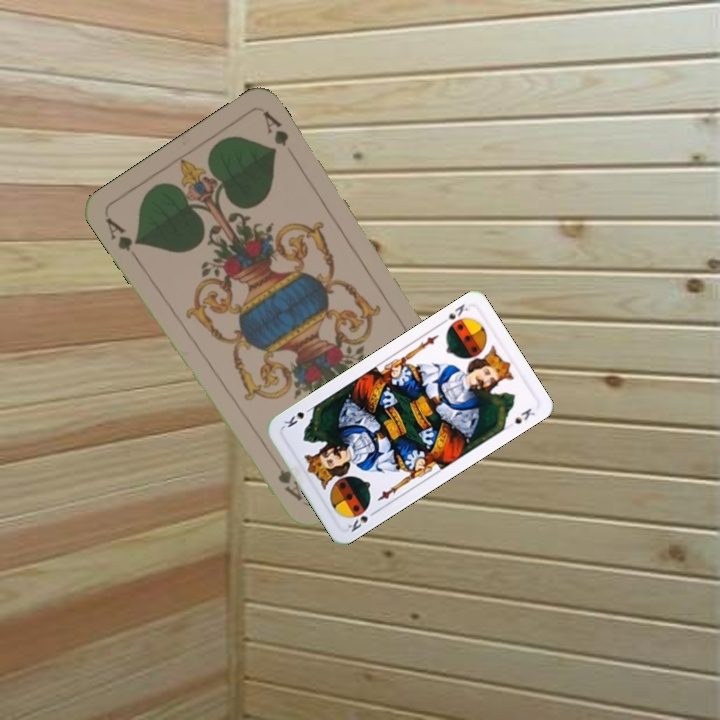GA: (101, 213, 142, 264)
SK: (344, 503, 380, 535), (436, 300, 471, 332)
